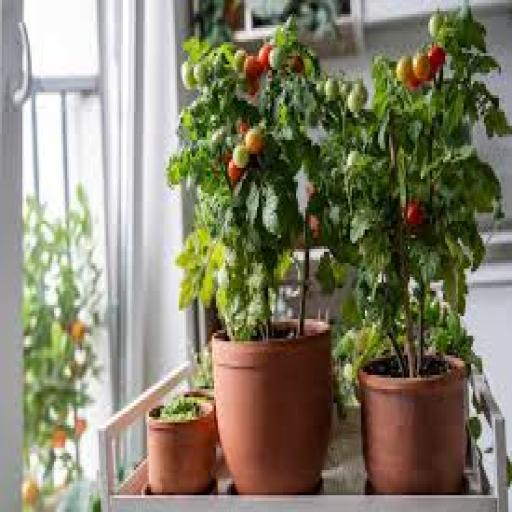tomato: (405, 199, 426, 227), (427, 15, 446, 37), (414, 53, 429, 79), (245, 130, 261, 154), (233, 51, 246, 78), (234, 148, 249, 171), (399, 58, 412, 83), (182, 64, 194, 90), (326, 79, 338, 105), (431, 48, 445, 70), (308, 218, 322, 240), (247, 56, 260, 78), (262, 47, 273, 72), (248, 80, 262, 99), (349, 98, 364, 115), (291, 57, 303, 78), (196, 61, 206, 86), (305, 183, 318, 201), (228, 165, 240, 184), (414, 81, 423, 93), (239, 124, 249, 132)
